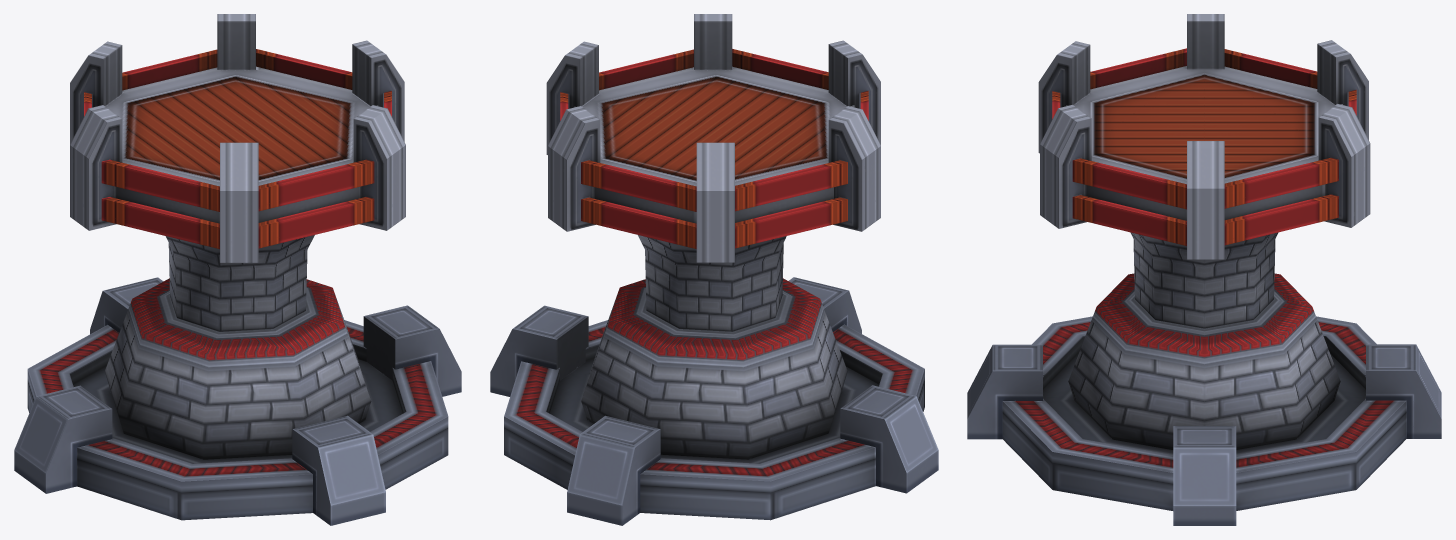
The model's file is CannonTower_Level2.FBX.
3 views of the same model, side by side, from view 1: azimuth 30°, elevation 25°; view 2: azimuth 150°, elevation 25°; view 3: azimuth 270°, elevation 25° (orthographic).
Parts seen in each view (by area): view 1: CannonTower_Level2; view 2: CannonTower_Level2; view 3: CannonTower_Level2.
Boxes of the visible parts, left/top/right/bottom form: CannonTower_Level2: left=14, top=14, right=461, bottom=525; CannonTower_Level2: left=490, top=14, right=938, bottom=525; CannonTower_Level2: left=967, top=14, right=1441, bottom=525.
Size of the model in its own units: 59.86 by 48.03 by 59.86.
